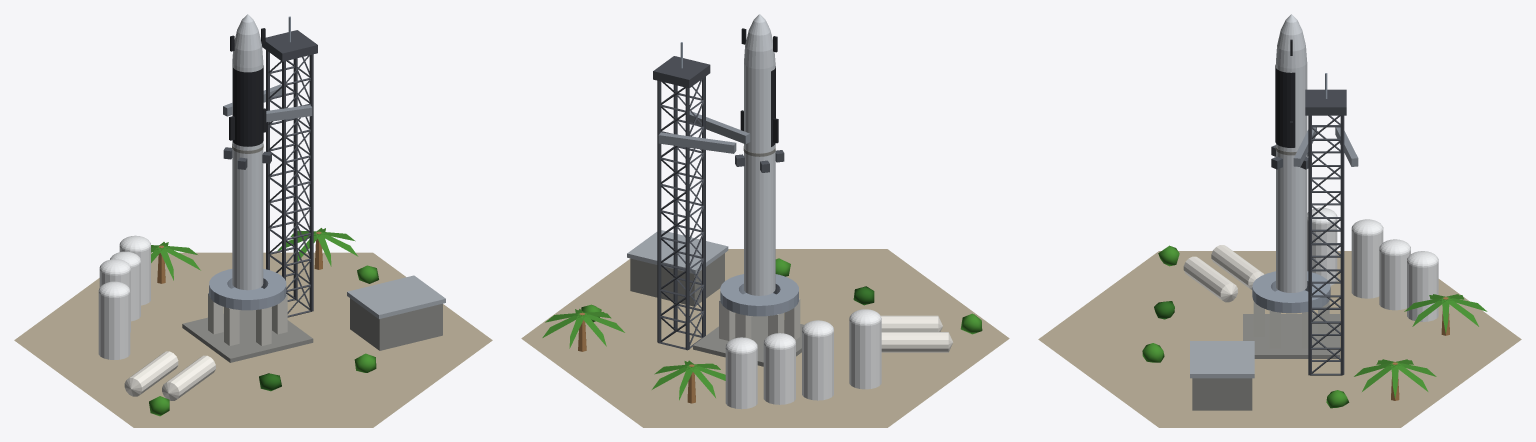
Rendered from wonder_starbase_tx.fbx.
The picture shows the model from 3 angles, left to right: view 1: azimuth 30°, elevation 25°; view 2: azimuth 150°, elevation 25°; view 3: azimuth 270°, elevation 25°; orthographic projection. The views are drawn at different scales.
Parts seen in each view (by area): view 1: wonder_starbase_tx; view 2: wonder_starbase_tx; view 3: wonder_starbase_tx.
Part boxes in pixels (left/top/right/bottom): wonder_starbase_tx: left=14, top=14, right=492, bottom=427; wonder_starbase_tx: left=521, top=14, right=1009, bottom=427; wonder_starbase_tx: left=1038, top=14, right=1521, bottom=427.
Bounding box in the file's own units: 182 × 156 × 210.
